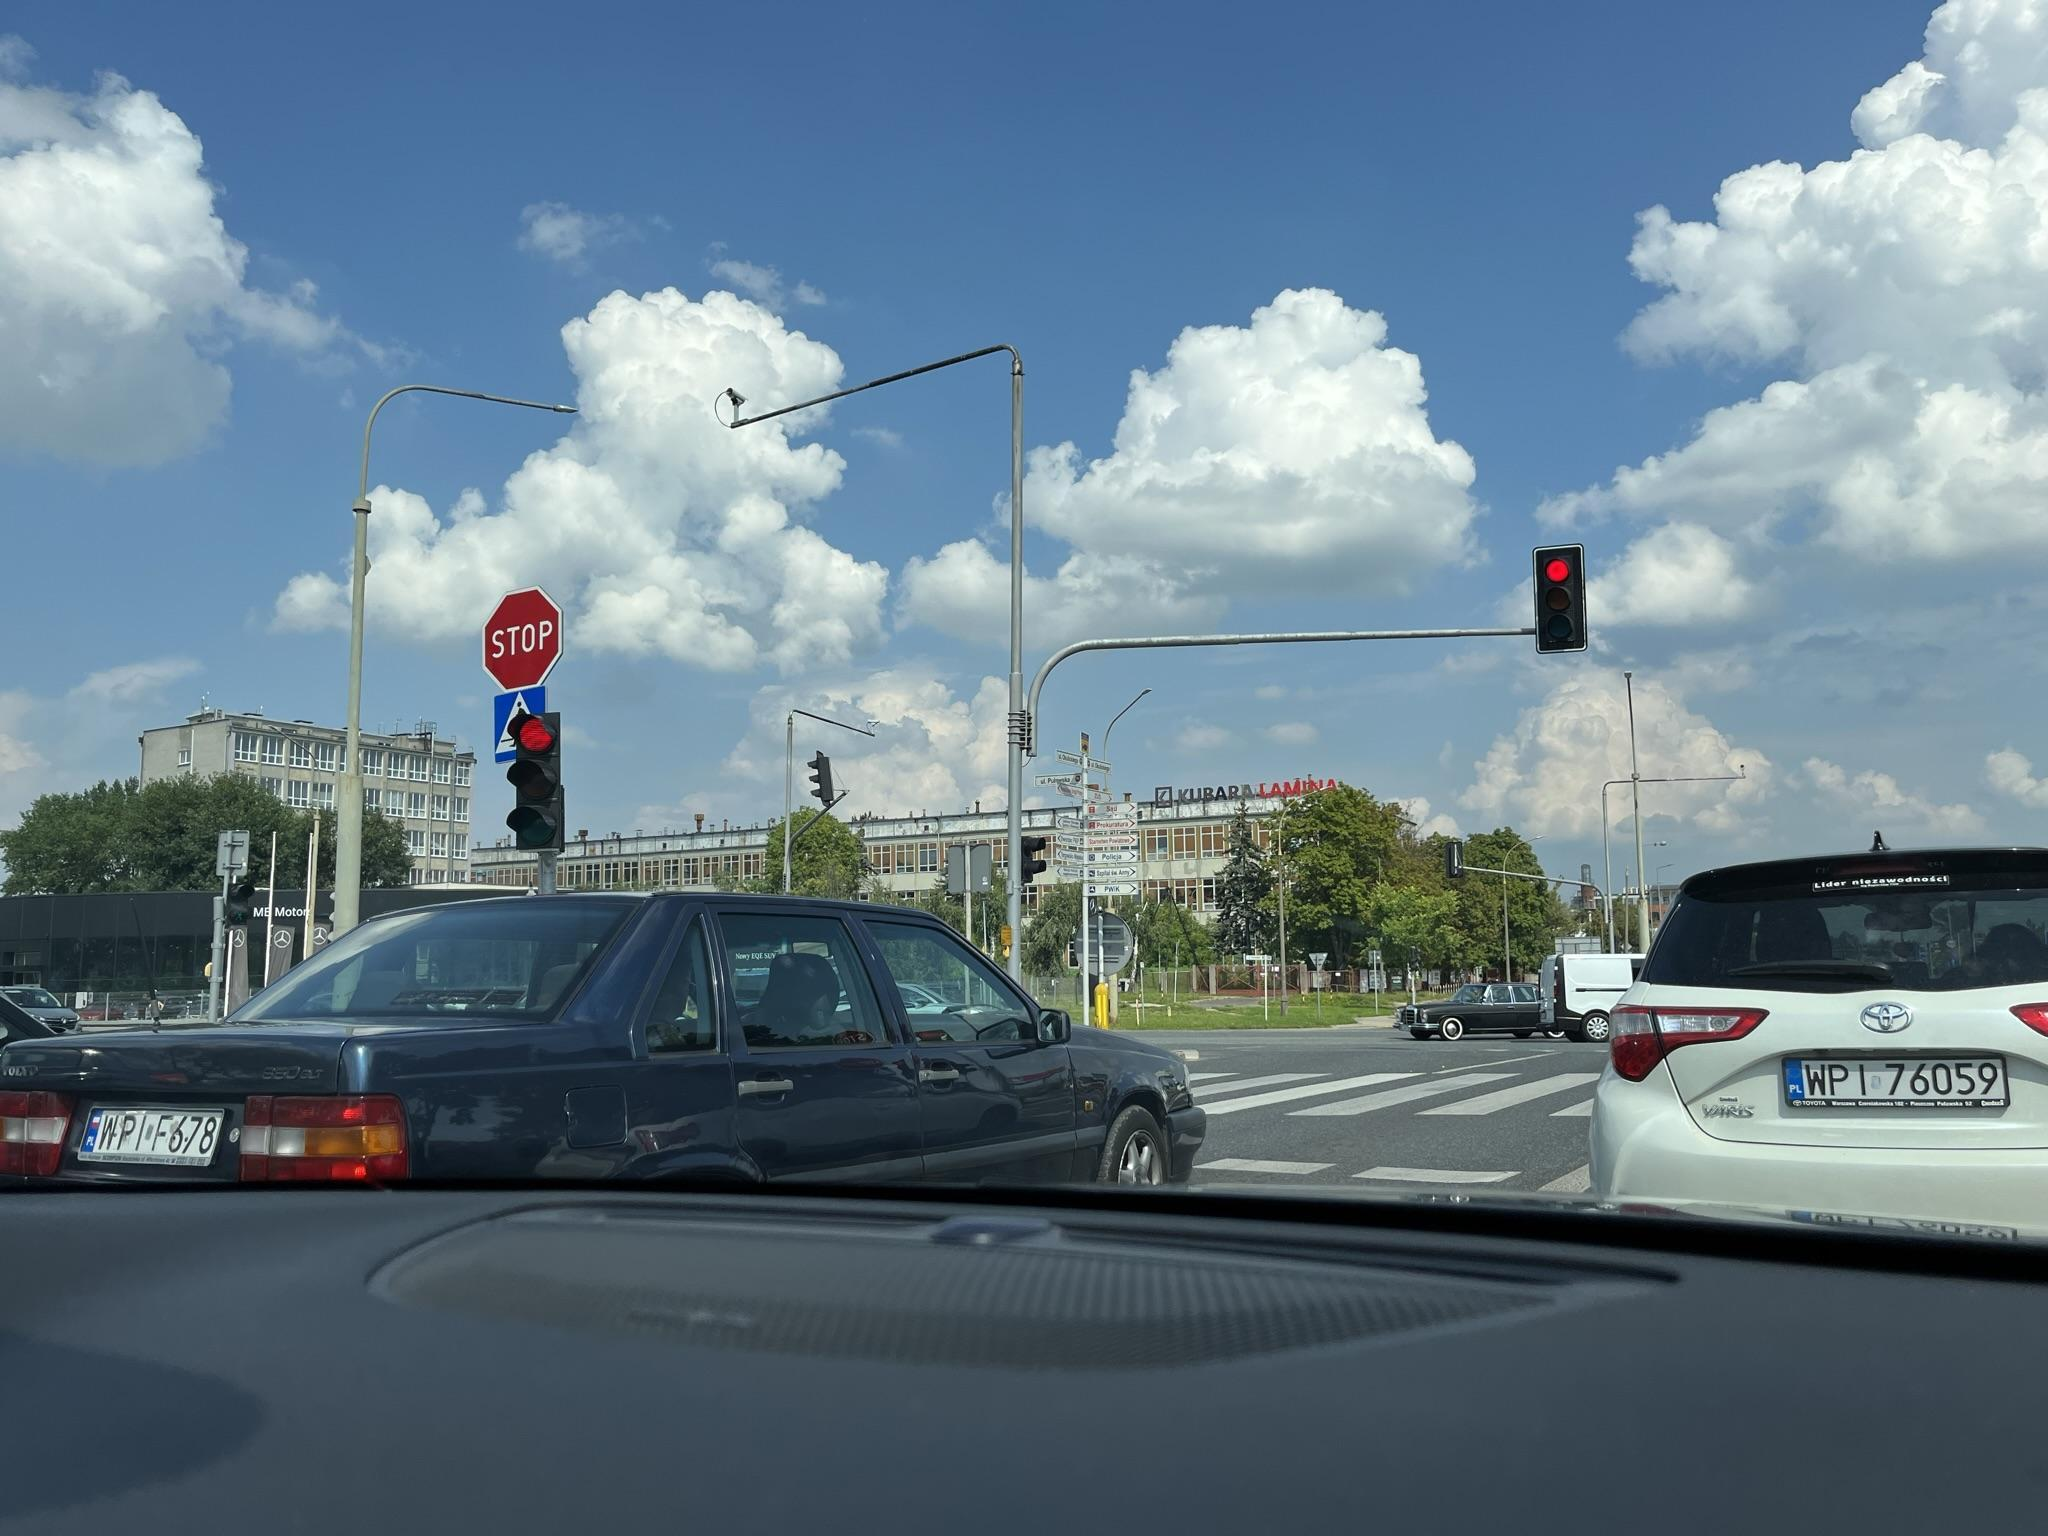prohibitory: (482, 587, 563, 692)
